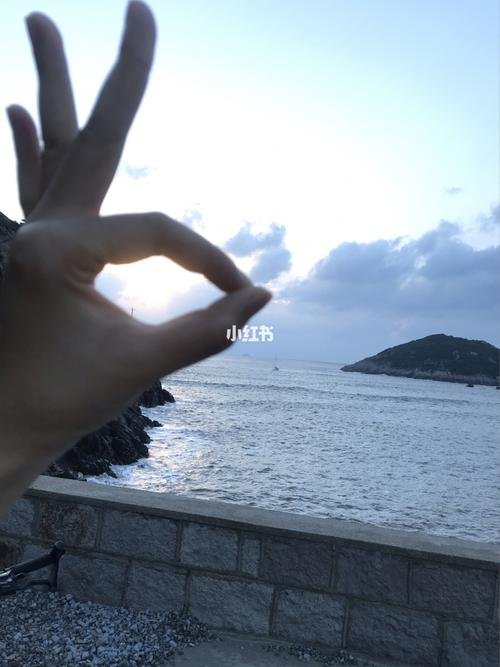sea_river: (93, 368, 486, 517)
sky_cloud: (163, 114, 499, 354)
